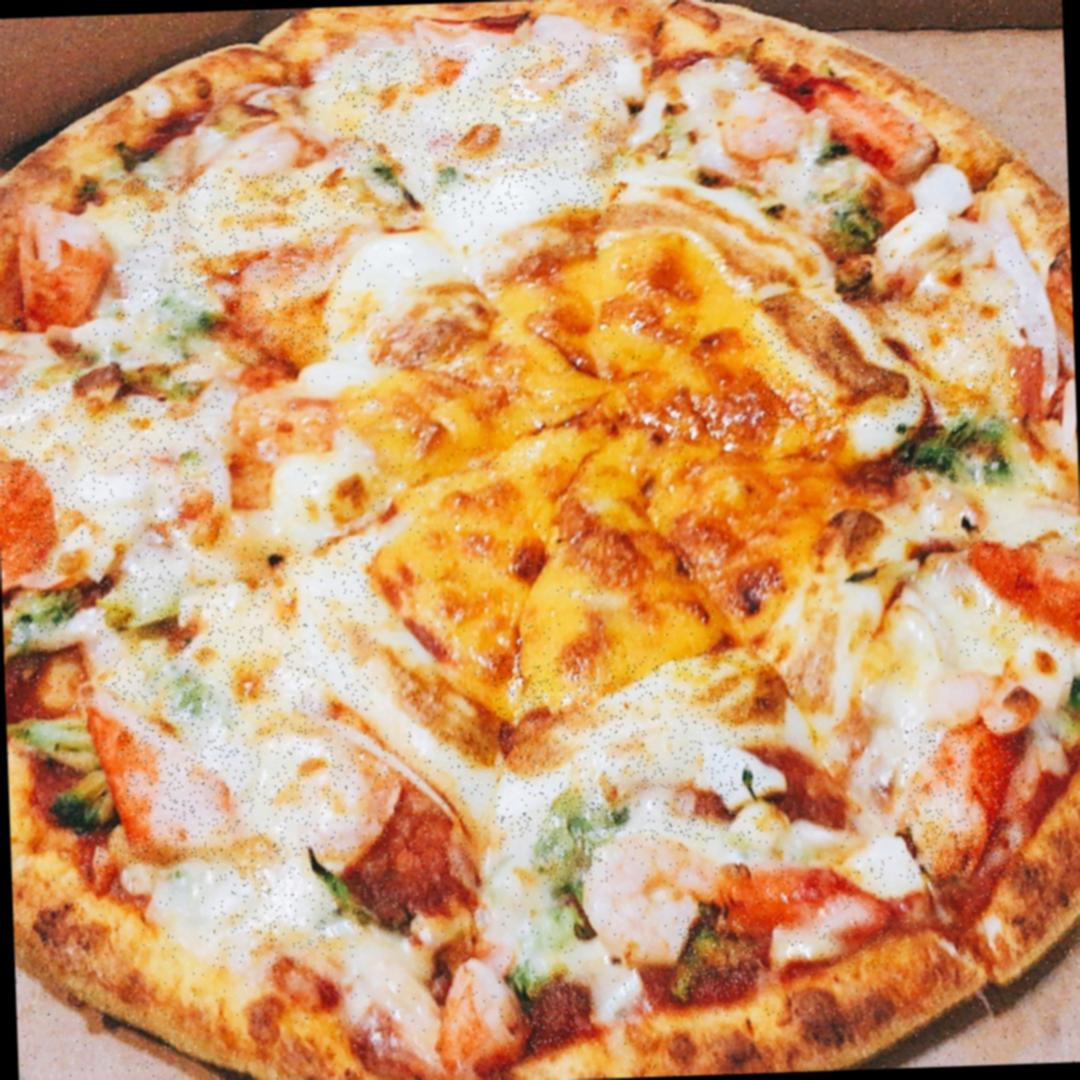Broccoli: (108, 296, 224, 406), (26, 708, 122, 836), (891, 418, 1018, 483), (538, 789, 608, 884), (676, 915, 753, 998), (312, 858, 386, 932), (809, 187, 882, 259), (352, 158, 425, 222), (10, 590, 67, 648)
Cheese: (491, 650, 775, 852), (94, 535, 380, 723), (332, 40, 624, 222), (620, 100, 835, 301), (124, 170, 344, 366), (743, 290, 1021, 438), (203, 714, 362, 970), (769, 552, 983, 742), (0, 365, 223, 547), (356, 726, 496, 835)
Pepperoni: (338, 788, 473, 916), (530, 972, 586, 1044), (7, 654, 66, 716)
Pizza: (0, 0, 1080, 1080)
Tomatoes: (73, 694, 214, 869), (710, 858, 896, 977), (902, 720, 1028, 878), (960, 527, 1080, 655), (18, 193, 120, 334), (0, 452, 63, 583)
